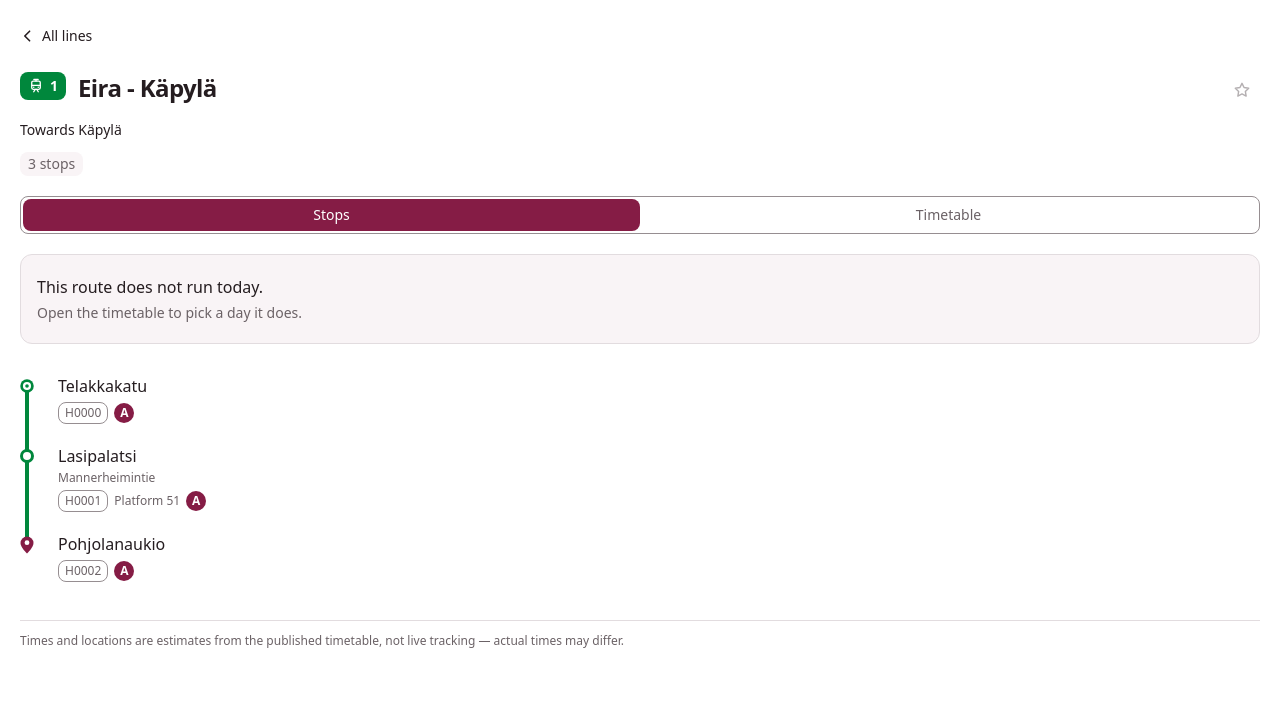
Test: RouteInspector › opens the timetable on the first day it runs when that is not today
The width and height of the screenshot is (1280, 720).
Expected: the heading "Eira - Käpylä" is shown, x1=78 y1=71 x2=217 y2=104
Click the radio button labelled "Timetable" at {"x": 948, "y": 215}, box x1=640 y1=199 x2=1257 y2=231
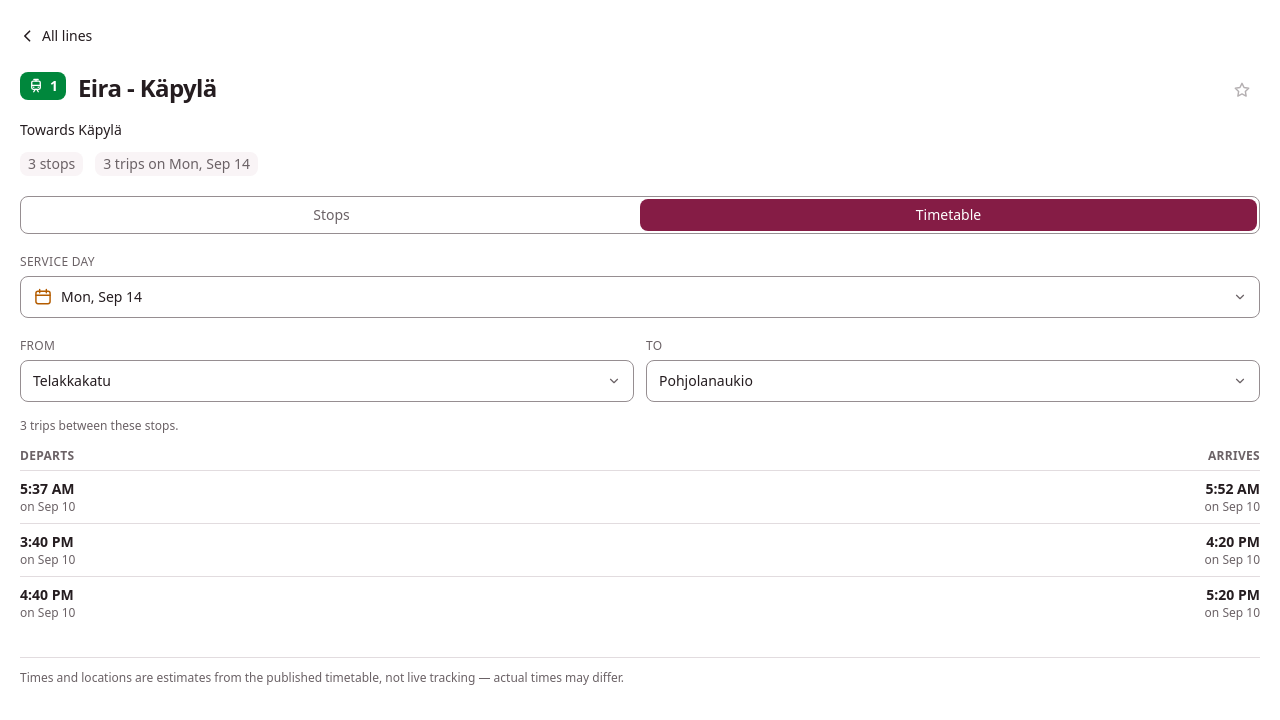
Expected: the button named "Service day" shows "Sep 14", x1=20 y1=276 x2=1260 y2=318
Expected: the text "Service day" no longer shows "today"
